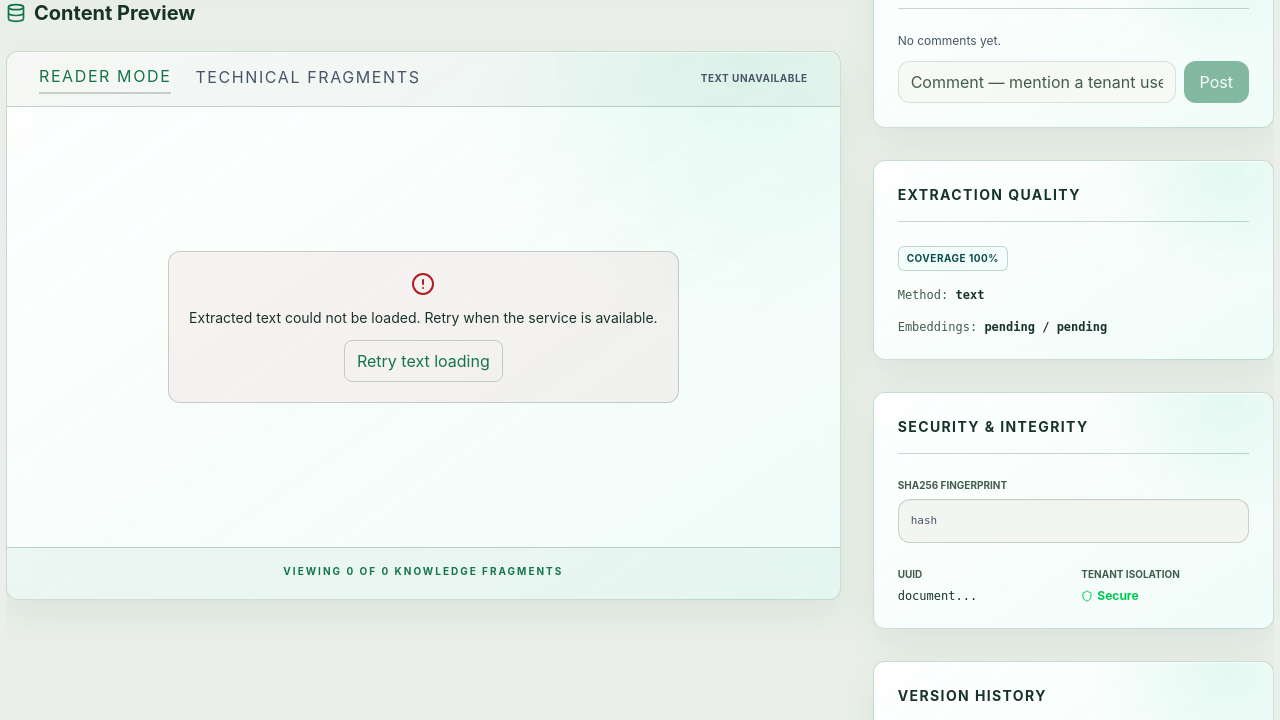
Scenario: document classification history permissions › shows one inline error and retries full text after a temporary failure
(page scrolled)
Expected: the message shows "Extracted text could not be loaded.", [189,308,658,326]
Click the button "Retry text loading": click(423, 360) [344,340,503,382]
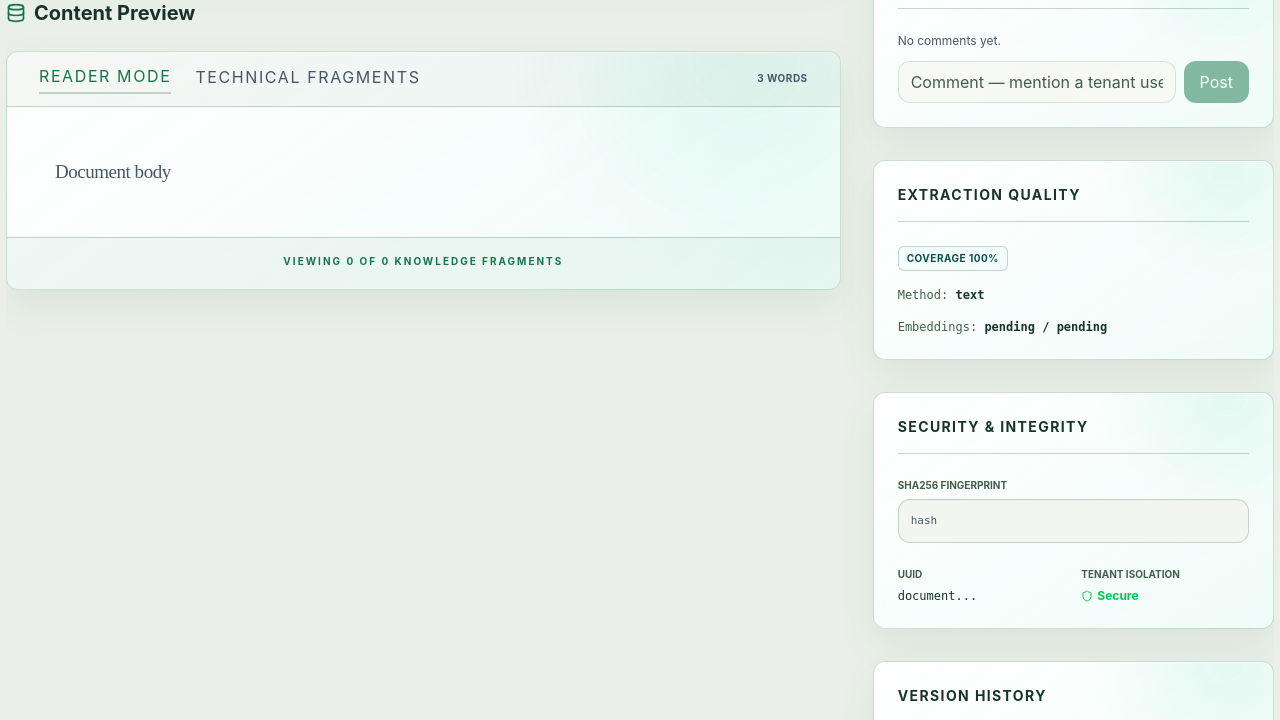
Expected: the text "Document body" is shown, [55,160,171,182]
